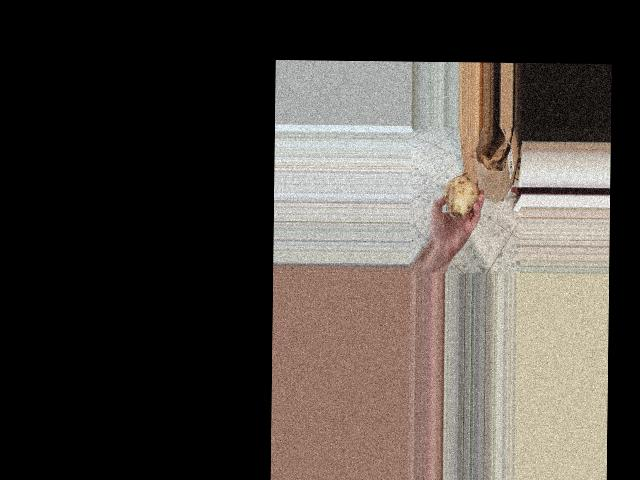onion: (441, 171, 480, 221)
